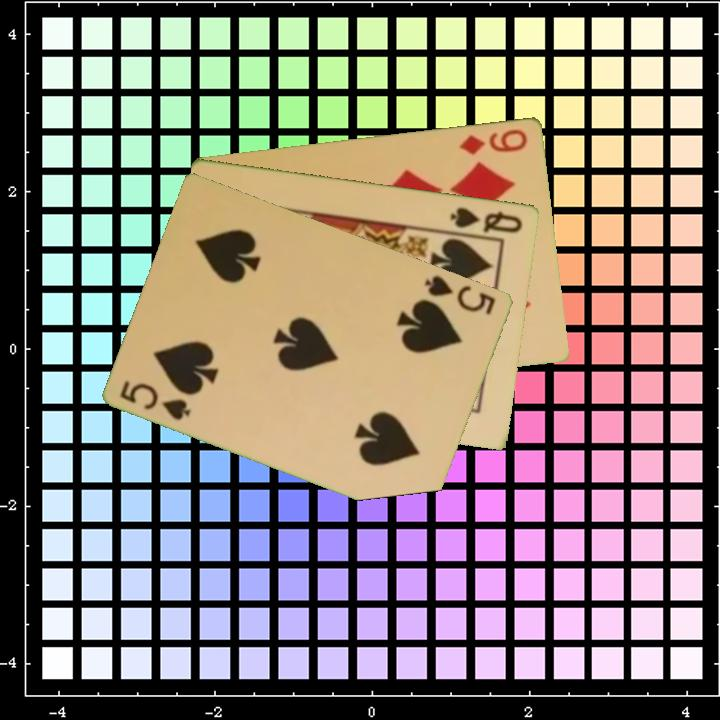5s: (421, 271, 499, 318), (117, 376, 195, 423)
9d: (456, 125, 531, 157)
Qs: (447, 203, 526, 236)
